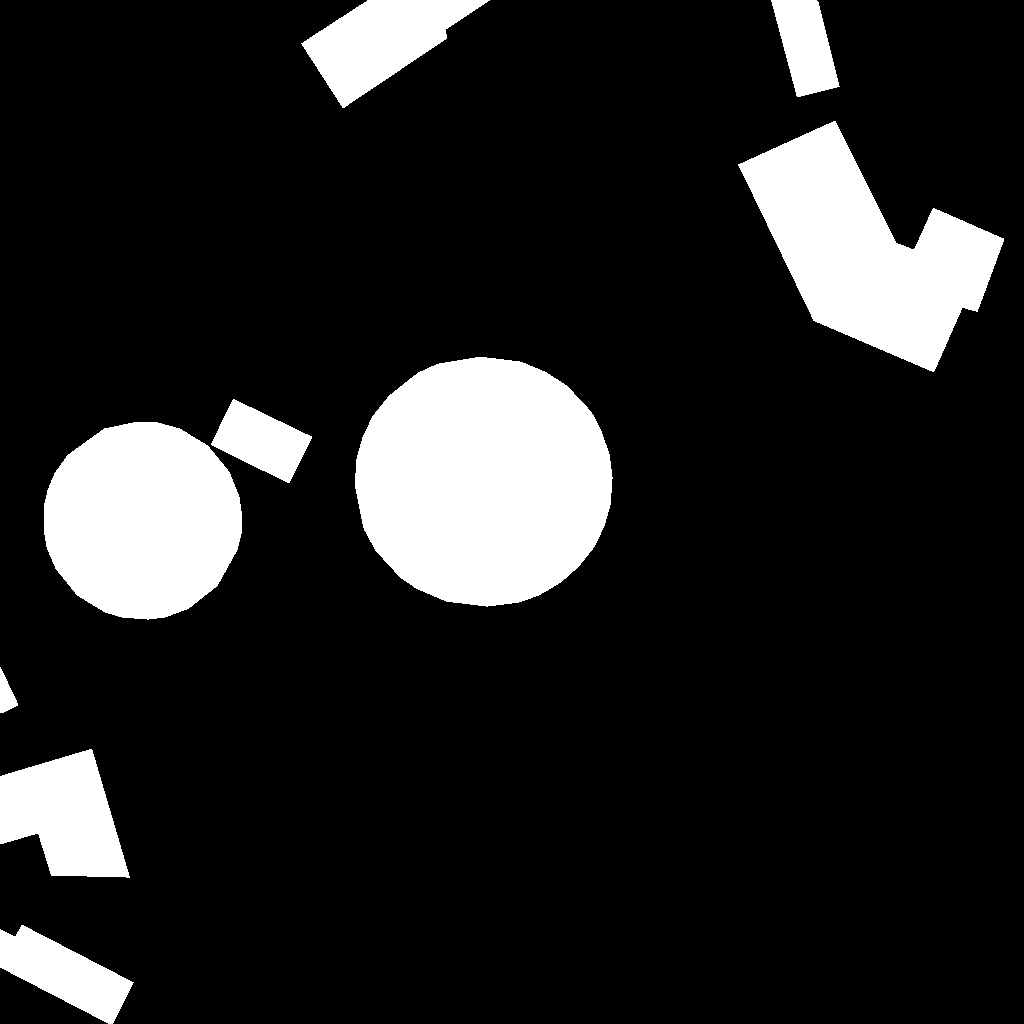building: (738, 121, 1005, 373), (355, 357, 613, 607), (44, 422, 242, 620), (301, 0, 548, 109), (0, 749, 131, 878), (0, 925, 135, 1024), (211, 399, 313, 484), (771, 0, 840, 98), (0, 666, 19, 714)
